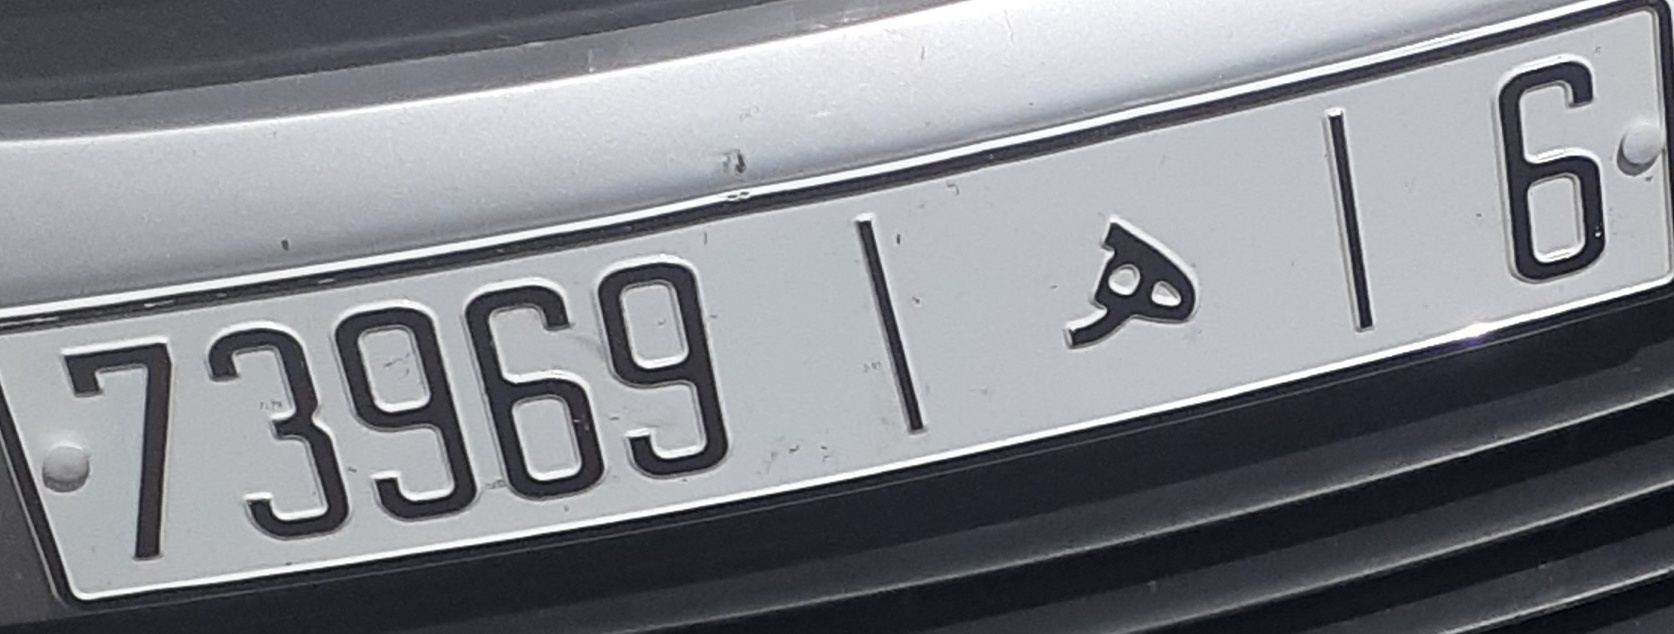3: (201, 322, 353, 545)
6: (458, 284, 606, 504), (1486, 50, 1617, 284)
7: (59, 340, 178, 567)
9: (326, 302, 482, 521), (592, 257, 734, 478)
h: (1056, 211, 1206, 355)
